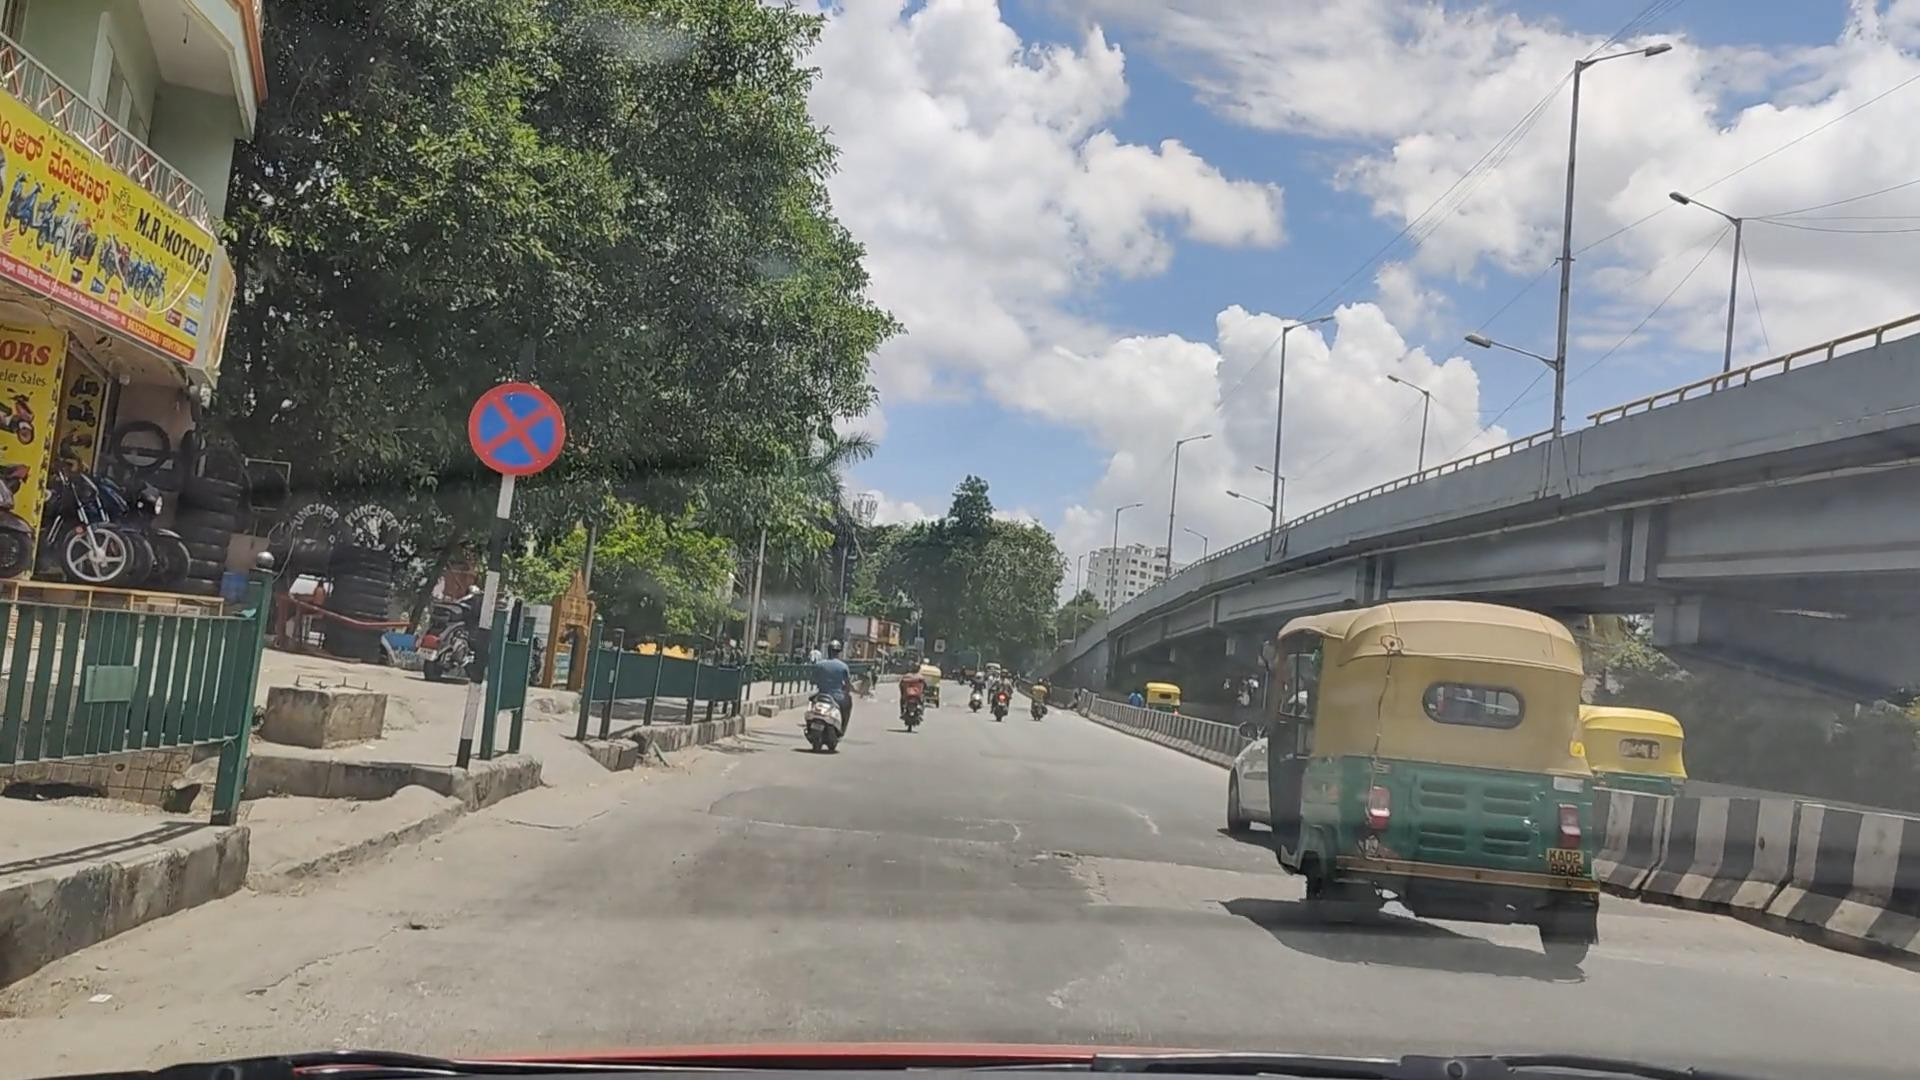LMV: (1283, 605, 1598, 944), (810, 642, 848, 748), (895, 654, 922, 729), (989, 657, 1010, 723)
RoadDamages: (1025, 839, 1295, 902), (1110, 800, 1164, 835), (976, 804, 1019, 845)
